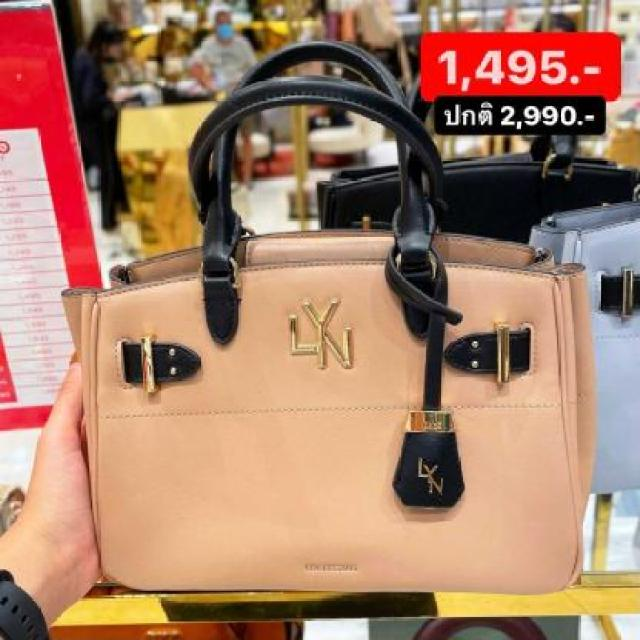Bag: (0, 48, 574, 632)
